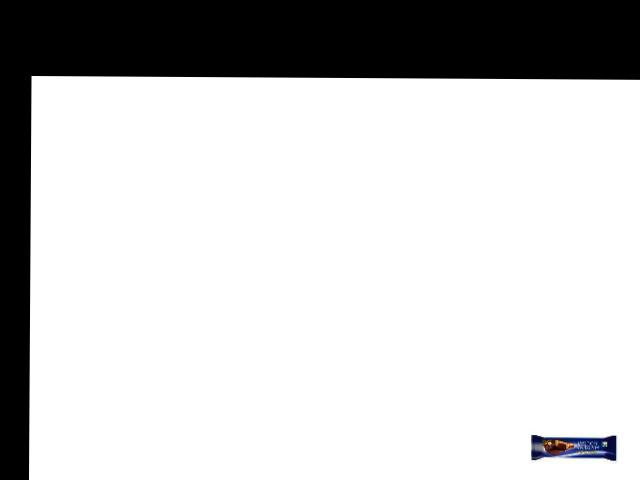chocolate: (520, 426, 618, 462)
